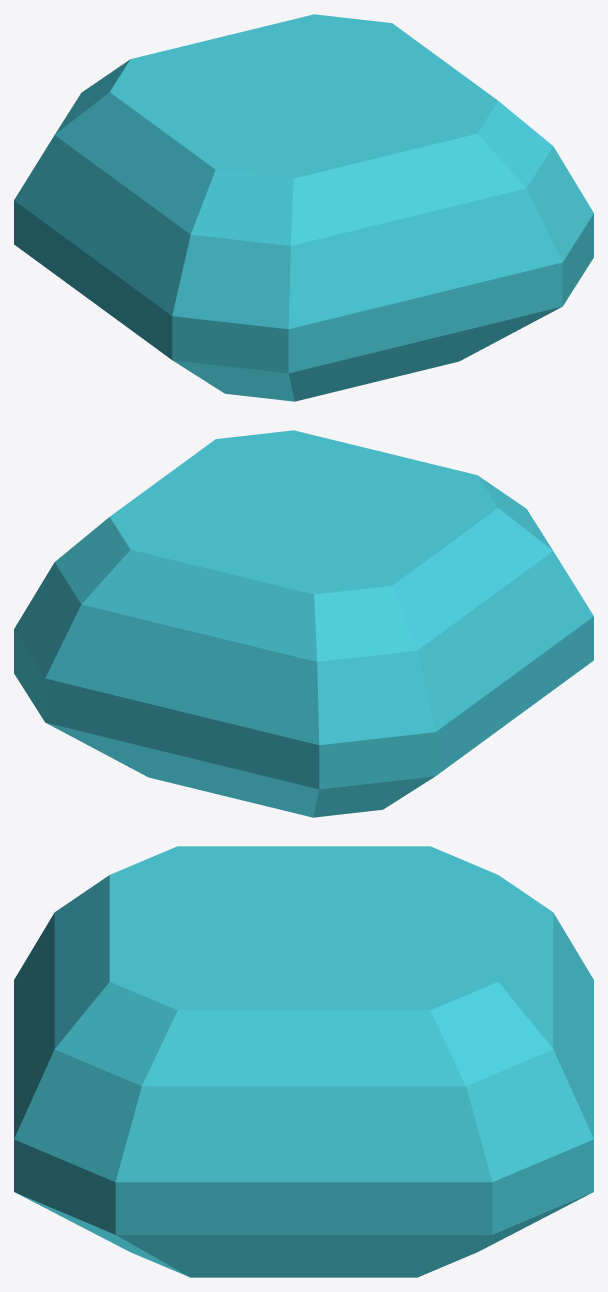
Rendered from SM_Aquamarine_Flawless.fbx.
3 renders of one model, top to bottom at view 1: azimuth 30°, elevation 25°; view 2: azimuth 150°, elevation 25°; view 3: azimuth 270°, elevation 25°, orthographic. The views are drawn at different scales.
Parts seen in each view (by area): view 1: SM_Aquamarine_Flawless; view 2: SM_Aquamarine_Flawless; view 3: SM_Aquamarine_Flawless.
Boxes of the visible parts, x1,y1,x2,y2 form: SM_Aquamarine_Flawless: [14, 14, 593, 401]; SM_Aquamarine_Flawless: [14, 430, 593, 817]; SM_Aquamarine_Flawless: [14, 846, 593, 1277].
Bounding box in the file's own units: 20 × 20 × 12.5.
